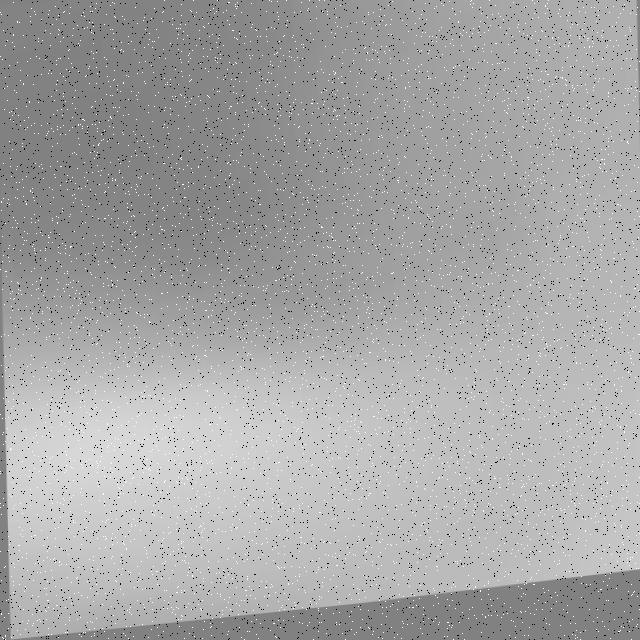person: (3, 290, 561, 640)
